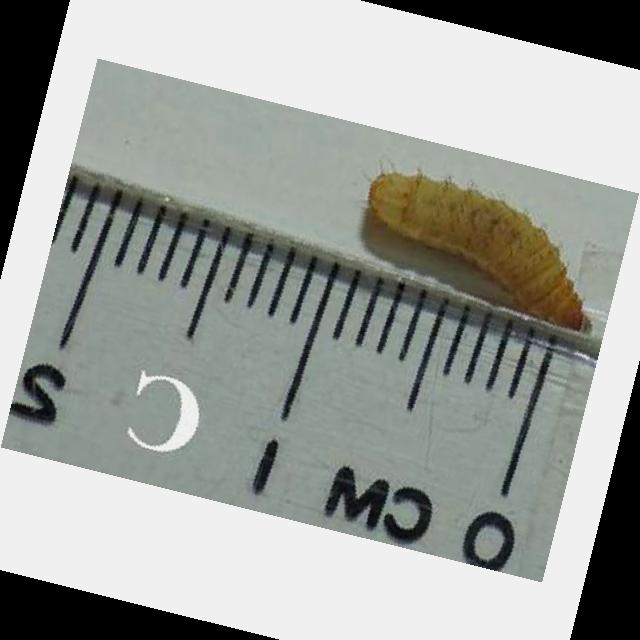Maggot: (366, 170, 595, 335)
